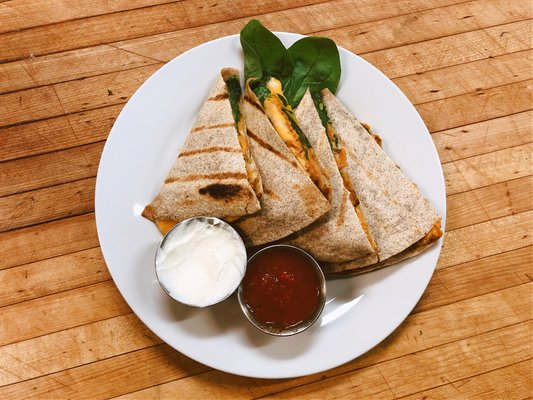soup: (236, 64, 444, 274), (141, 68, 263, 236)
sushi: (237, 244, 328, 337)
